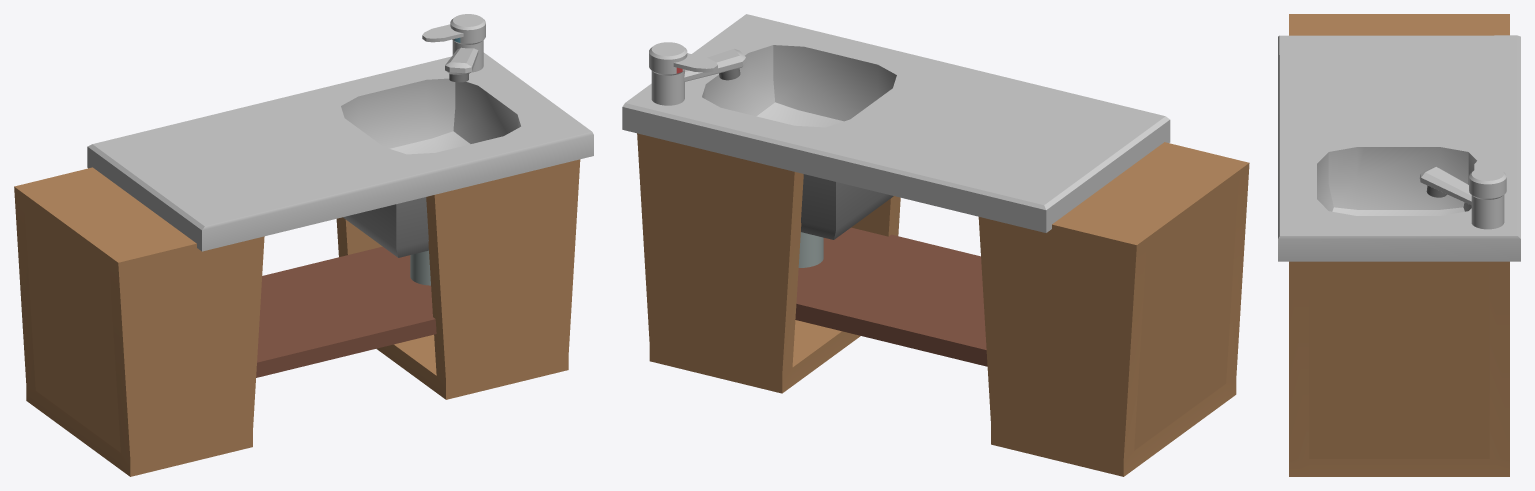
Rendered from Washing.fbx.
3 renders of one model, left to right at view 1: azimuth 30°, elevation 25°; view 2: azimuth 150°, elevation 25°; view 3: azimuth 270°, elevation 25°, orthographic. The views are drawn at different scales.
Parts seen in each view (by area): view 1: Washing; view 2: Washing; view 3: Washing.
Part boxes in pixels (x1,y1,x2,y2): Washing: (14,14,593,476); Washing: (622,14,1249,476); Washing: (1278,14,1520,476).
Bounding box in the file's own units: 313 × 180 × 132.
